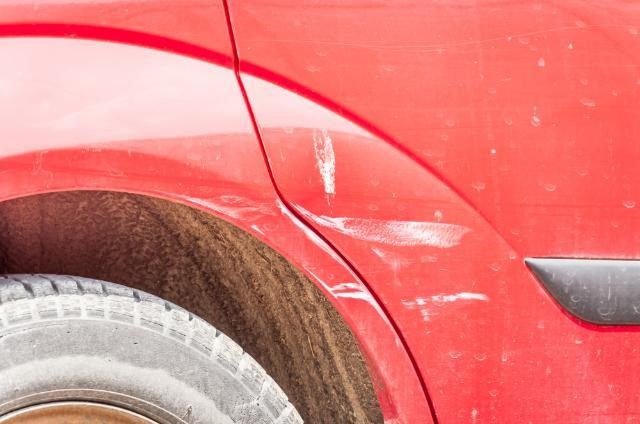scratch: (291, 129, 474, 254), (273, 196, 404, 344), (402, 289, 496, 323)
